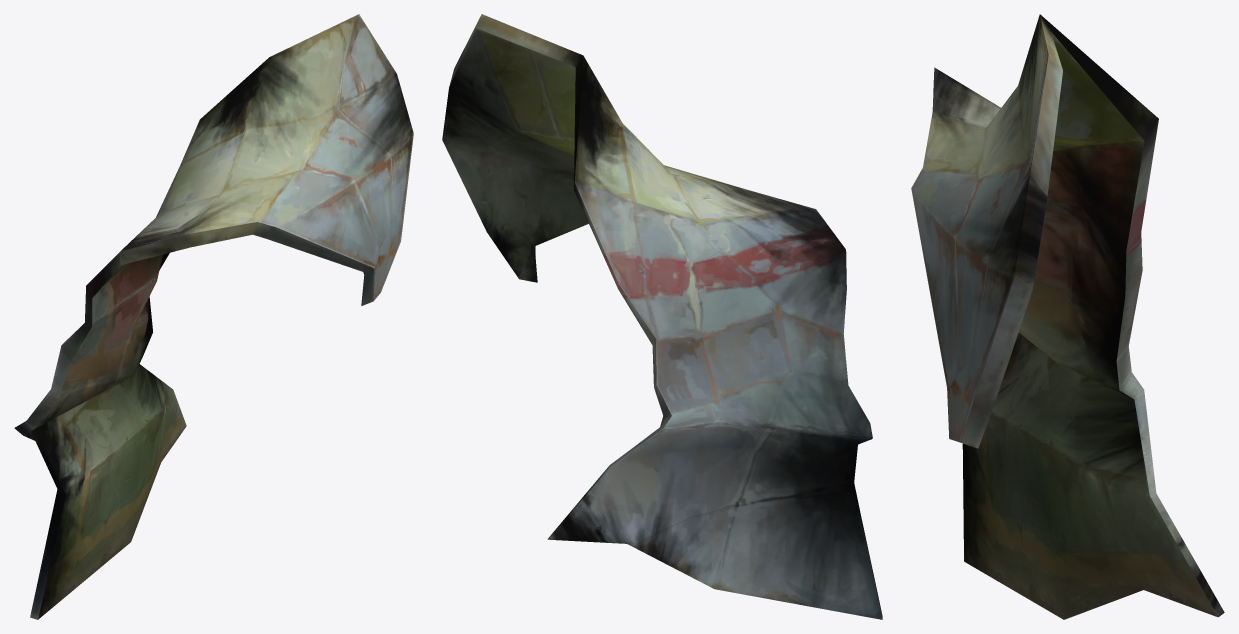
Rendered from ord_item_sav_debris_large_01.glb.
The picture shows the model from 3 angles, left to right: view 1: azimuth 30°, elevation 25°; view 2: azimuth 150°, elevation 25°; view 3: azimuth 270°, elevation 25°; orthographic projection. The views are drawn at different scales.
Parts seen in each view (by area): view 1: ord_item_sav_debris_large_01; view 2: ord_item_sav_debris_large_01; view 3: ord_item_sav_debris_large_01.
Boxes of the visible parts, x1,y1,x2,y2 form: ord_item_sav_debris_large_01: [14, 14, 413, 619]; ord_item_sav_debris_large_01: [442, 14, 882, 619]; ord_item_sav_debris_large_01: [911, 14, 1224, 619].
Size of the model in its own units: 1.38 by 1.65 by 0.6115.
Materials: 1 (1 with a texture image).
